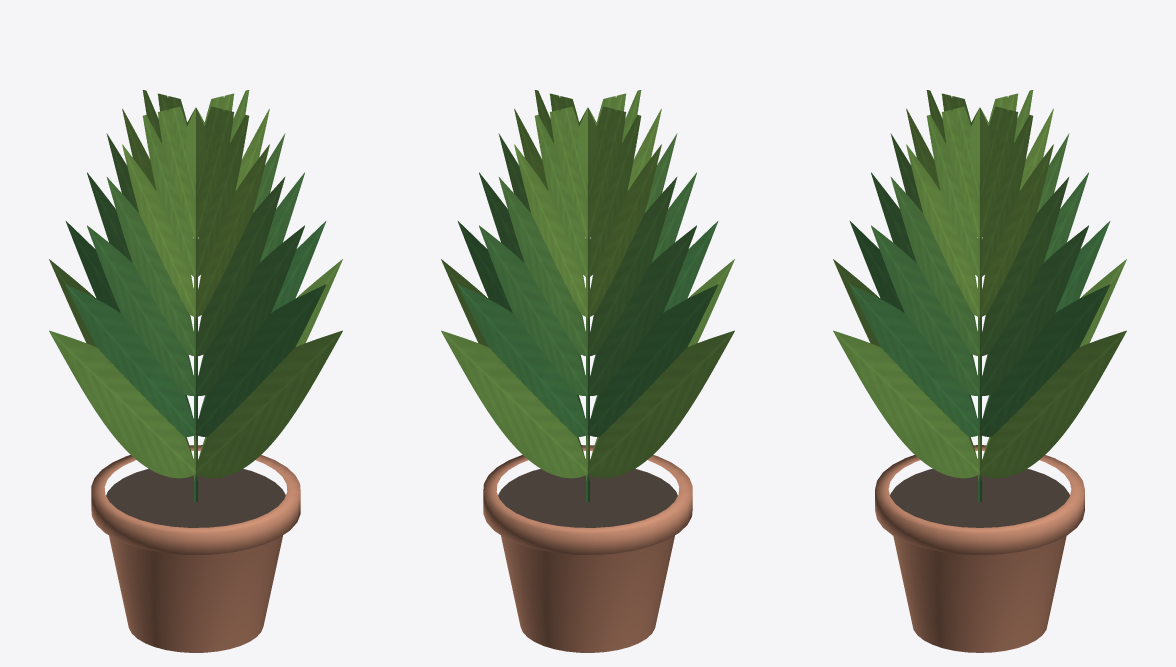
File: plant.gltf
The picture shows the model from 3 angles, left to right: view 1: azimuth 30°, elevation 25°; view 2: azimuth 150°, elevation 25°; view 3: azimuth 270°, elevation 25°; orthographic projection.
Parts seen in each view (by area): view 1: Plant; view 2: Plant; view 3: Plant.
Boxes of the visible parts, box(x1,y1,x2,y2) form: Plant: box(49, 90, 342, 652); Plant: box(441, 90, 734, 652); Plant: box(833, 90, 1126, 652).
Bounding box in the file's own units: 1.24 × 1.7 × 1.07.
Materials: 3 (1 with a texture image).
